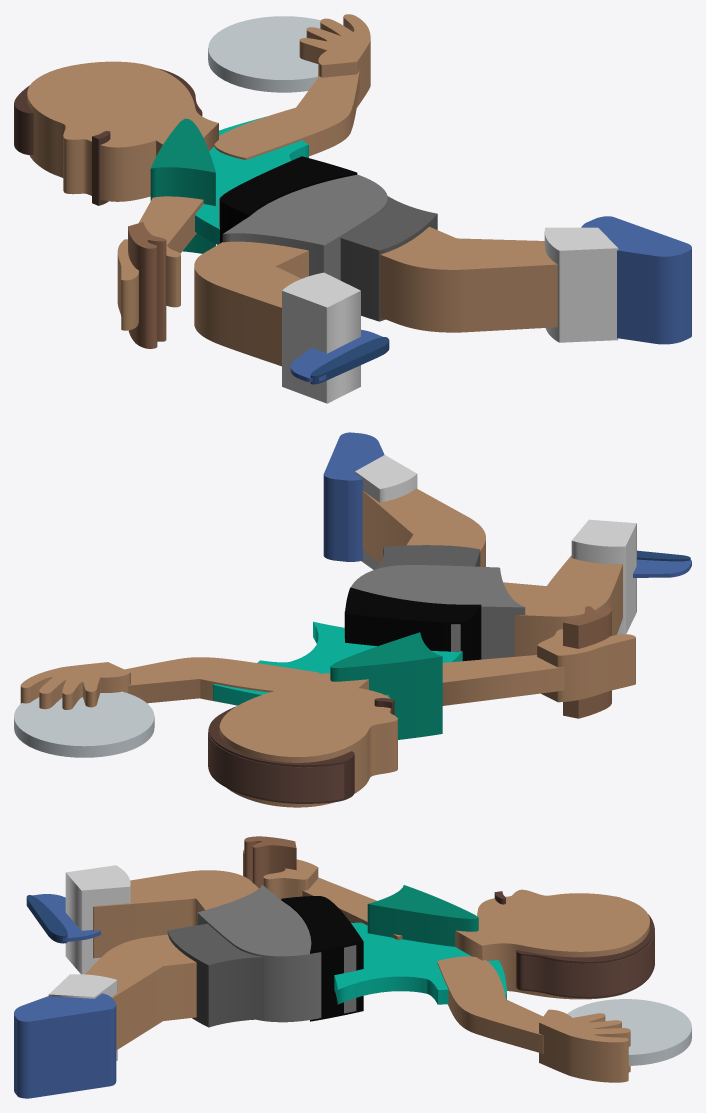
File: emoji_u1f93e_1f3fd_200d_2642.glb
3 renders of one model, top to bottom at view 1: azimuth 30°, elevation 25°; view 2: azimuth 150°, elevation 25°; view 3: azimuth 270°, elevation 25°, orthographic. The views are drawn at different scales.
Visible parts, largest first — view 1: emoji_u1f93e_1f3fd_200d_2642; view 2: emoji_u1f93e_1f3fd_200d_2642; view 3: emoji_u1f93e_1f3fd_200d_2642.
Part boxes in pixels (x1,y1,x2,y2): emoji_u1f93e_1f3fd_200d_2642: (14, 14, 691, 403); emoji_u1f93e_1f3fd_200d_2642: (14, 432, 691, 807); emoji_u1f93e_1f3fd_200d_2642: (14, 836, 691, 1098).
Size of the model in its own units: 0.0225 by 0.0048 by 0.0336.
